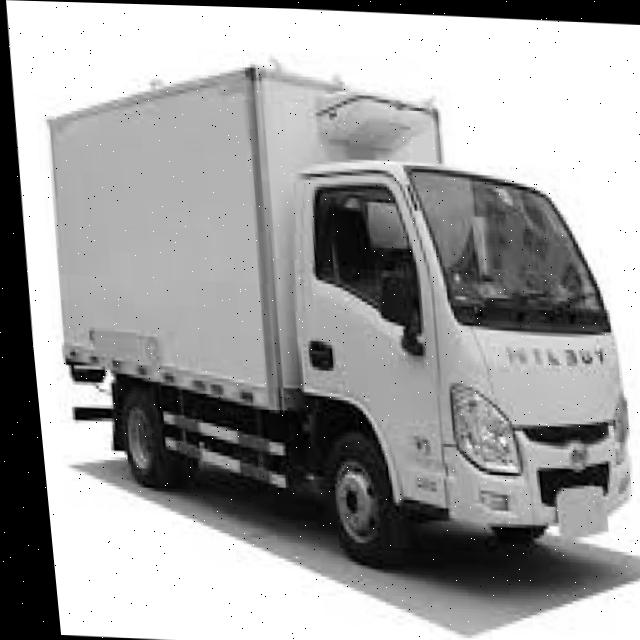truck: (237, 116, 640, 600)
